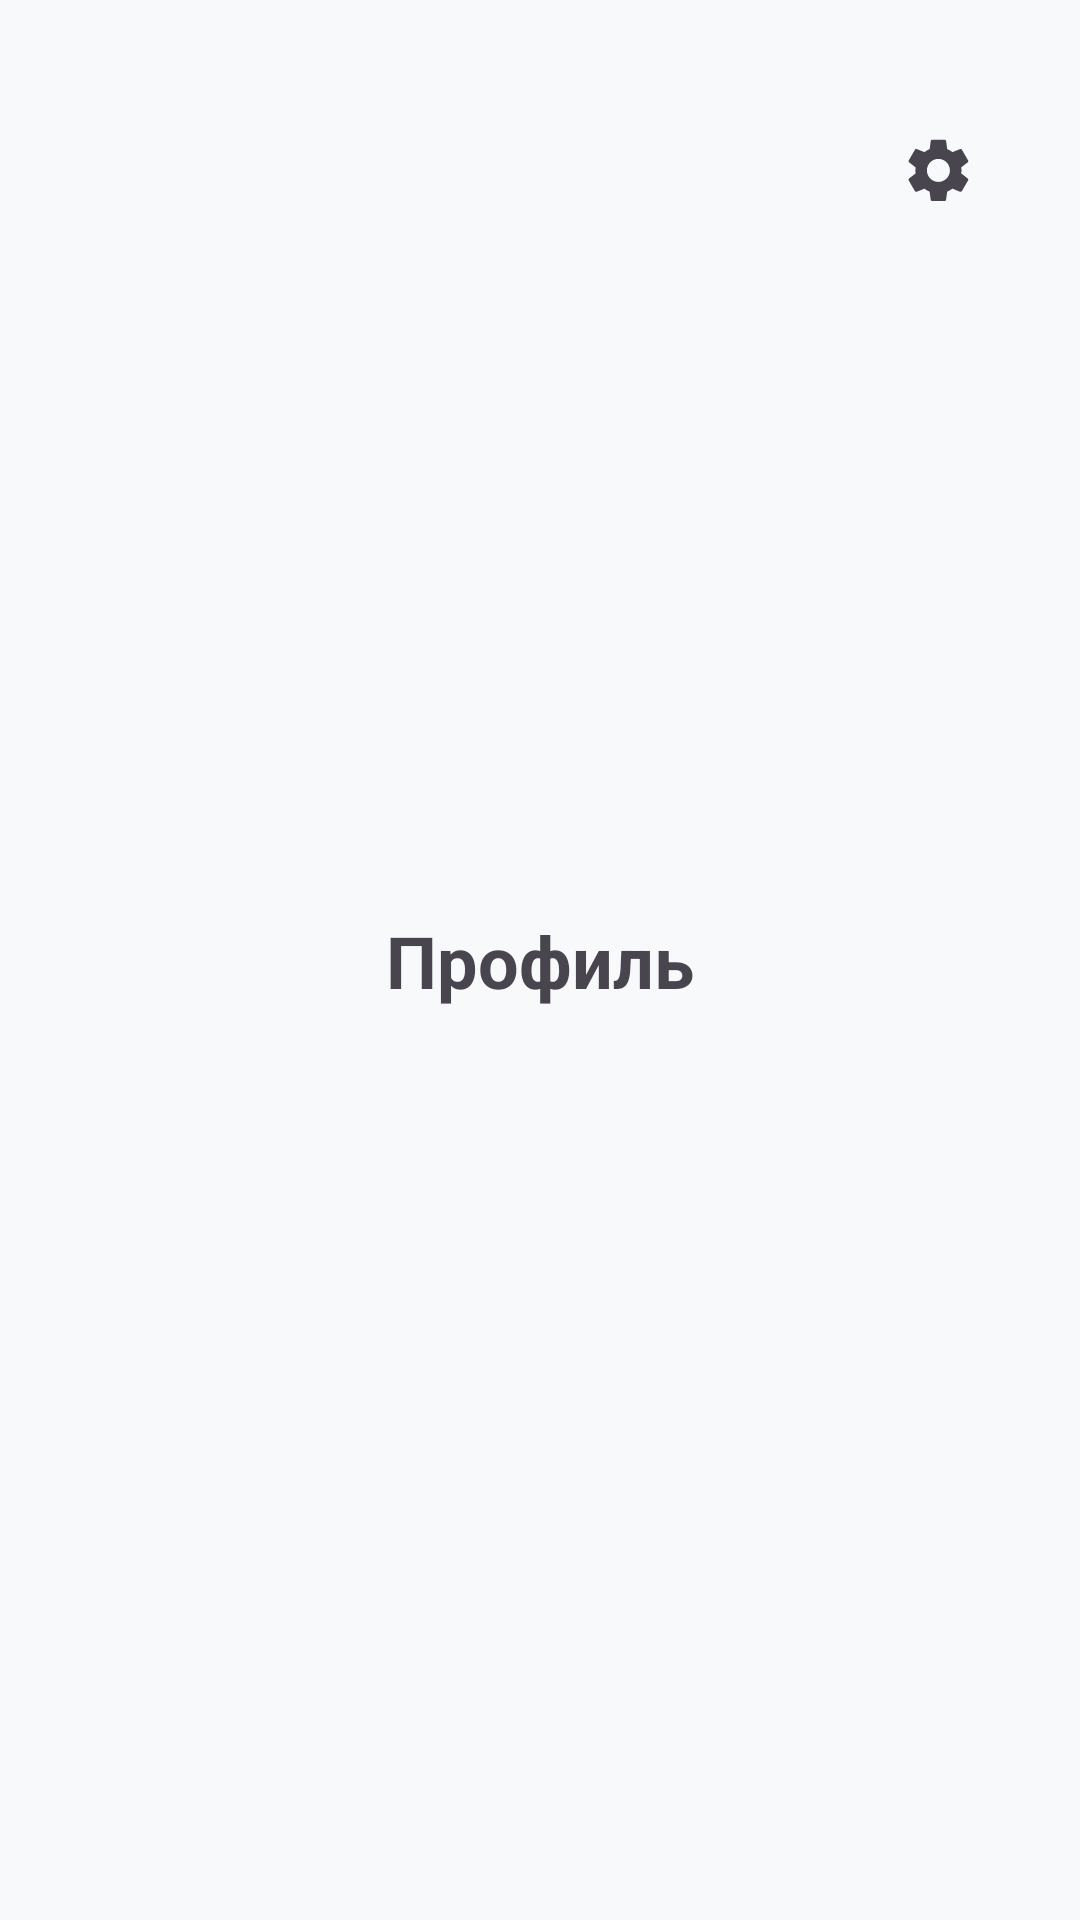

Point at icon controls on the screen. Image size 1080px x 1920px, points as (x=x, y=y).
Settings: (x=938, y=170)
